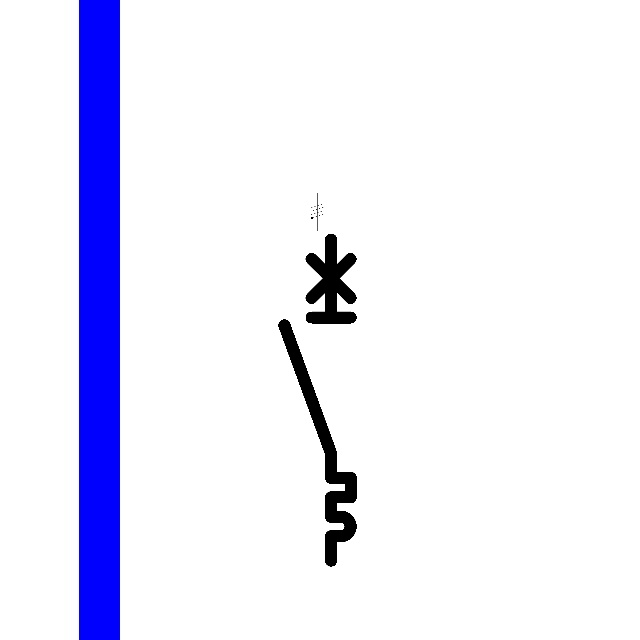interruptor_termomagnetico: (276, 231, 359, 569)
